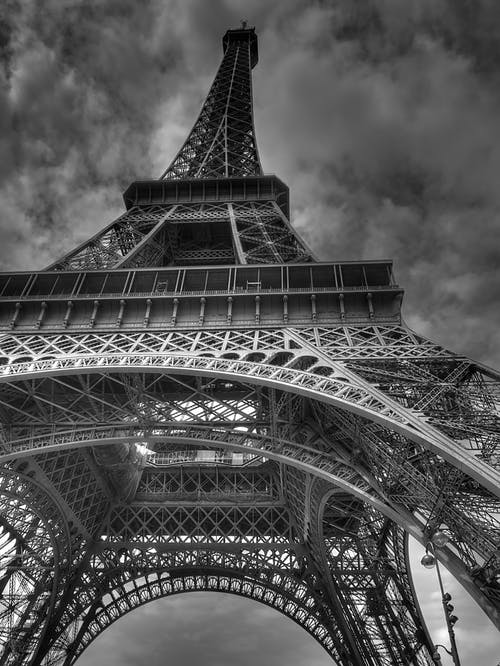eiffel tower: (14, 6, 500, 585)
